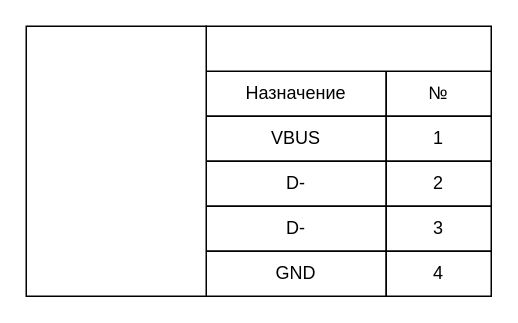
This 518x323 diagram has some shape labels left out. The centre of each missing label's shape, as x and y in pixels:
USB: the point at 348,48
USB (мышь): the point at 115,160
